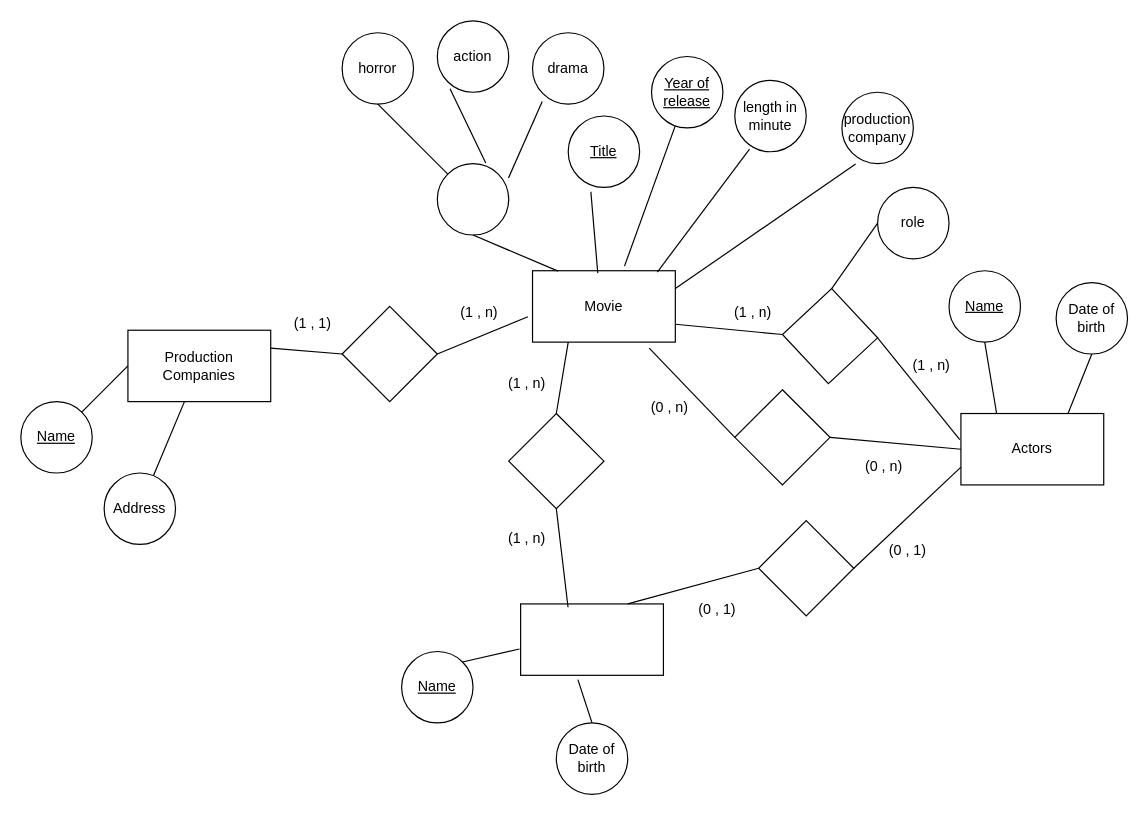
The diagram is 1148 pixels wide and 815 high, and some of its shapes have lost their labels. The centre of each missing label's shape, as x and y in pixels:
appear: the point at 829,335
direct: the point at 556,460
Directors: the point at 591,639
genres: the point at 472,198
HasQuote: the point at 782,437
Is: the point at 805,567
produces: the point at 389,353
